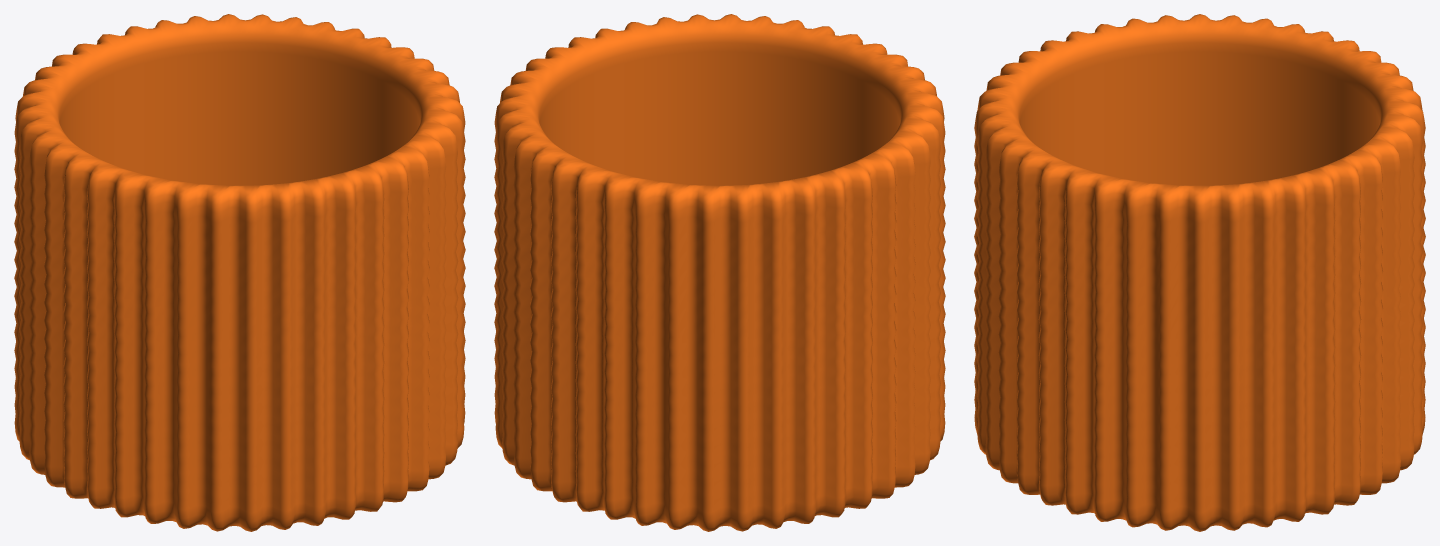
Rendered from wrist_orange.glb.
3 renders of one model, left to right at view 1: azimuth 30°, elevation 25°; view 2: azimuth 150°, elevation 25°; view 3: azimuth 270°, elevation 25°, orthographic.
Visible parts, largest first — view 1: wrist_orange; view 2: wrist_orange; view 3: wrist_orange.
Boxes of the visible parts, x1=… form: wrist_orange: x1=14, y1=14, x2=465, y2=531; wrist_orange: x1=494, y1=14, x2=945, y2=531; wrist_orange: x1=974, y1=14, x2=1425, y2=531.
Bounding box in the file's own units: 0.0931 × 0.0768 × 0.0931.
